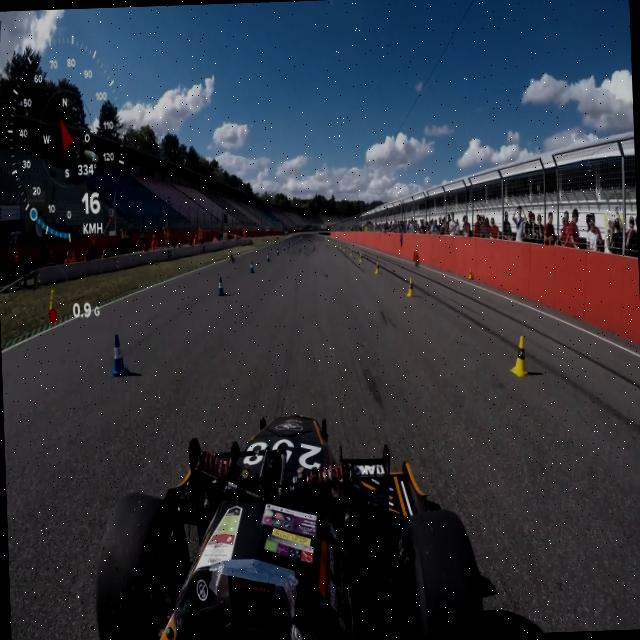blue_cone: (110, 332, 128, 377), (217, 276, 226, 297), (248, 260, 254, 274)
yellow_cone: (509, 334, 529, 378), (405, 277, 415, 298), (374, 260, 380, 274)
